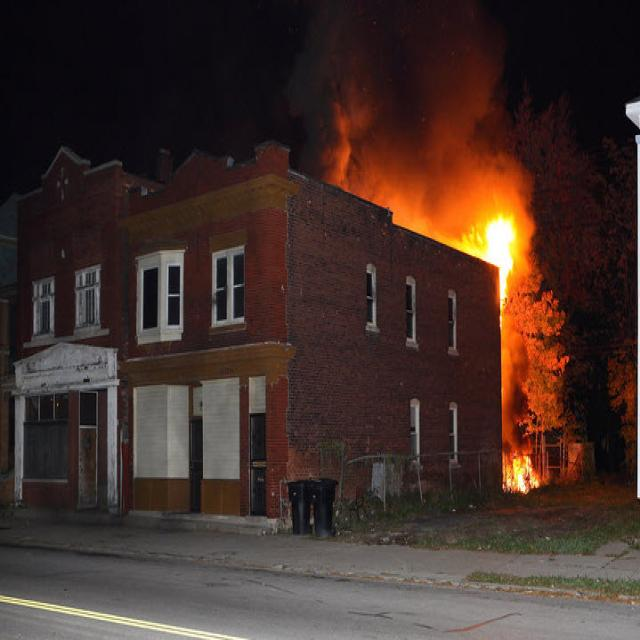Fire: (469, 200, 520, 319), (503, 443, 545, 502)
Smoke: (280, 3, 550, 247), (492, 330, 535, 449)
